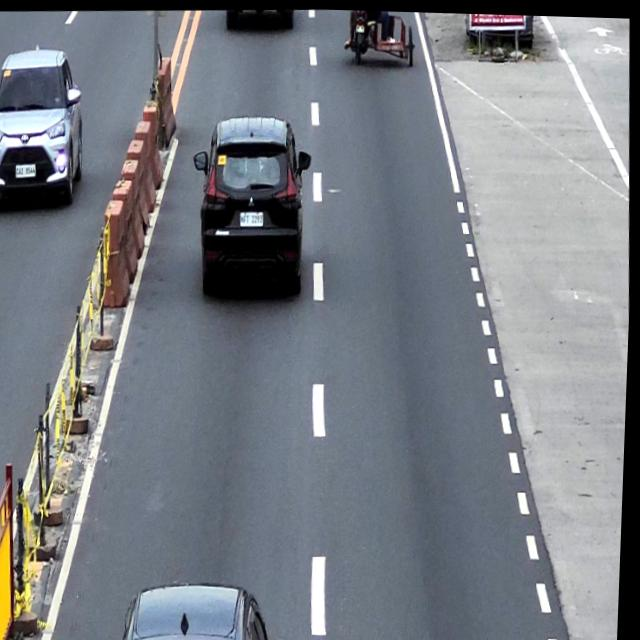Car: (190, 111, 318, 301)
License-Plate: (240, 210, 265, 224)
Tricycle: (347, 8, 417, 65)
